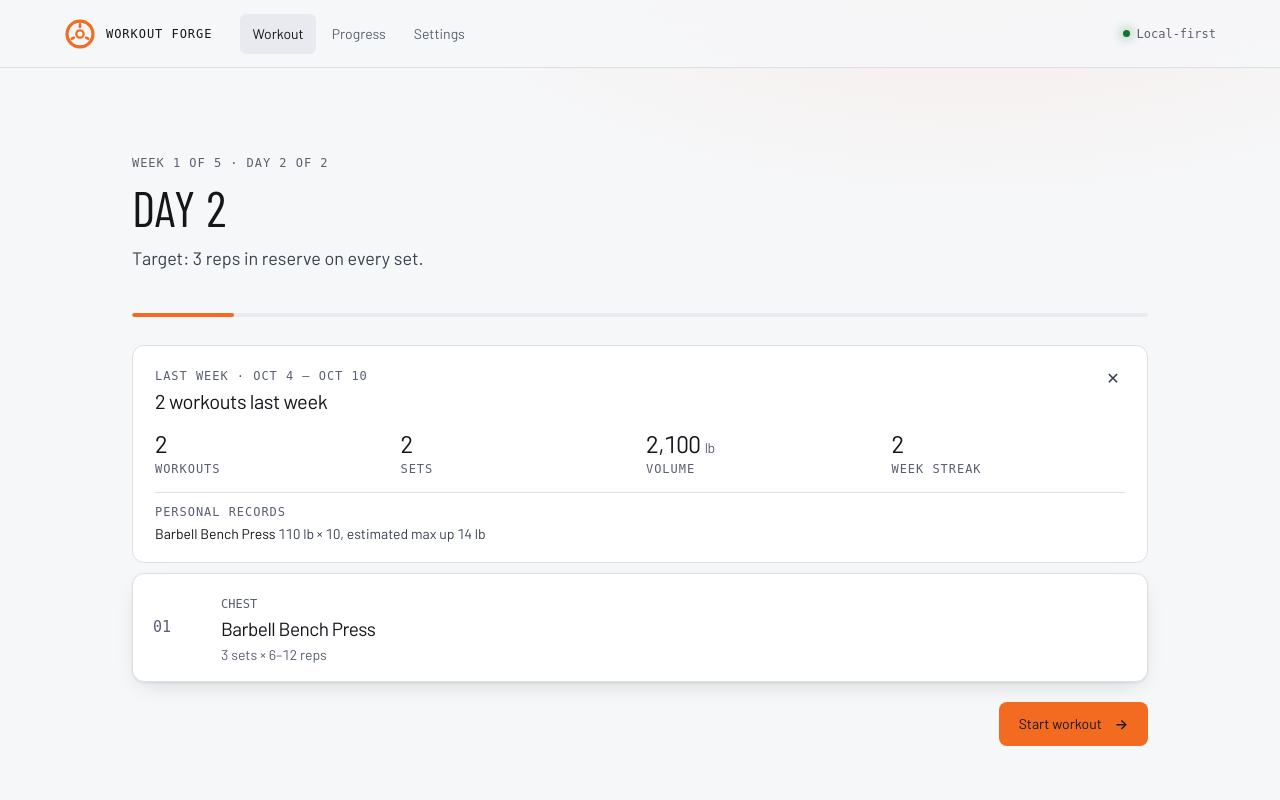
Test: weekly report on Today › shows last week under the progress line, and can be dismissed for good
Expected: the element "2 workouts last week" is shown, [132,345,1148,563]
Click the button named "Dismiss weekly report". click: (1113, 378)
box: [1091,356,1135,400]
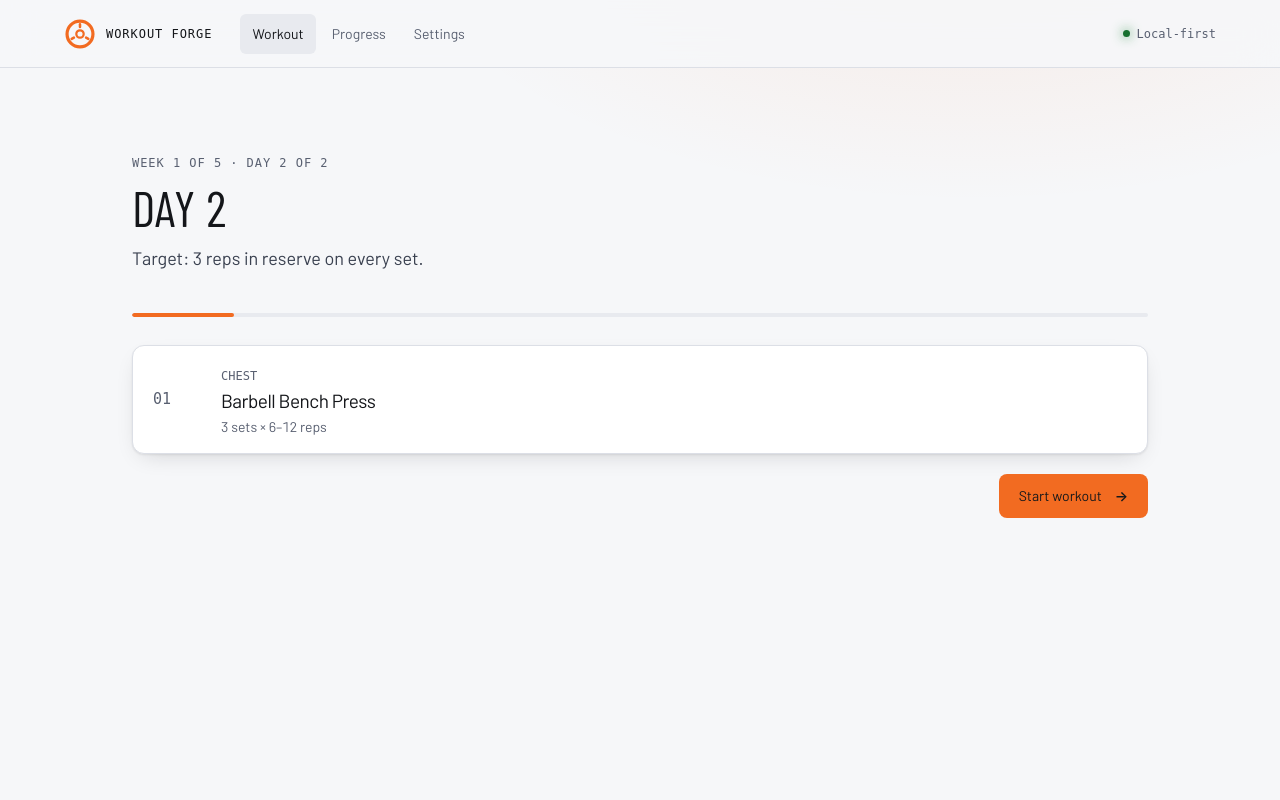
Expected: the text "Last week" is gone
